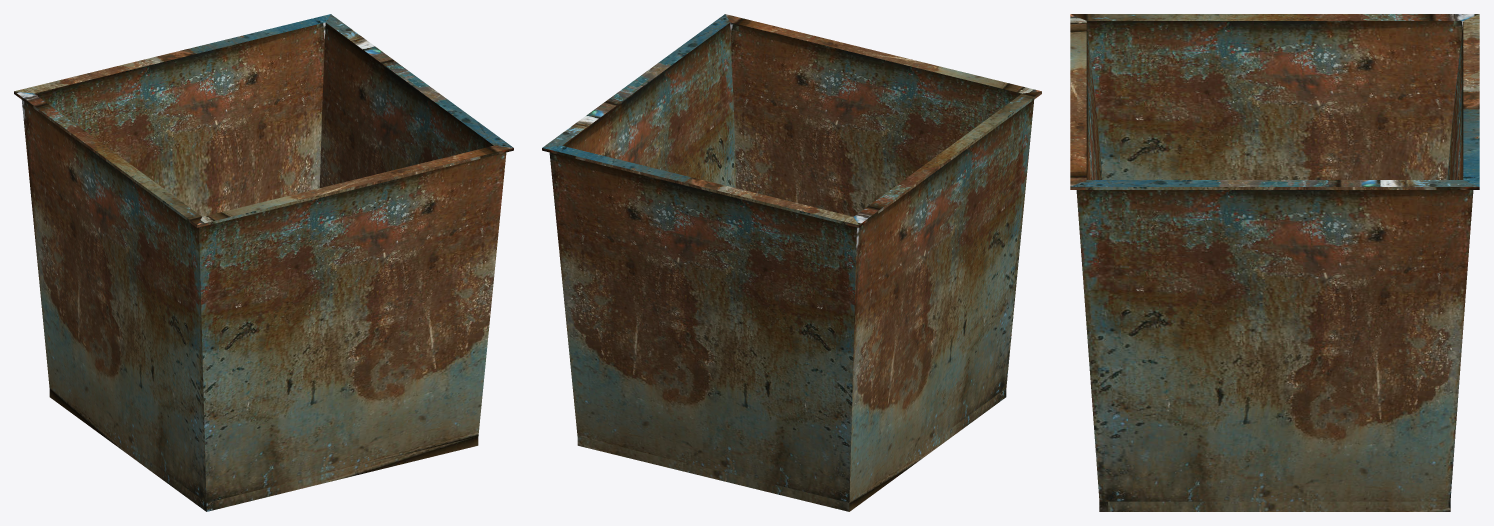
Rendered from Bak_002.fbx.
The picture shows the model from 3 angles, left to right: view 1: azimuth 30°, elevation 25°; view 2: azimuth 150°, elevation 25°; view 3: azimuth 270°, elevation 25°; orthographic projection. The views are drawn at different scales.
Parts seen in each view (by area): view 1: Cube; view 2: Cube; view 3: Cube.
Part boxes in pixels (x1,y1,x2,y2): Cube: [14, 14, 513, 511]; Cube: [542, 14, 1041, 511]; Cube: [1070, 14, 1479, 511].
Bounding box in the file's own units: 113 × 103 × 113.
Materials: 1 (1 with a texture image).
